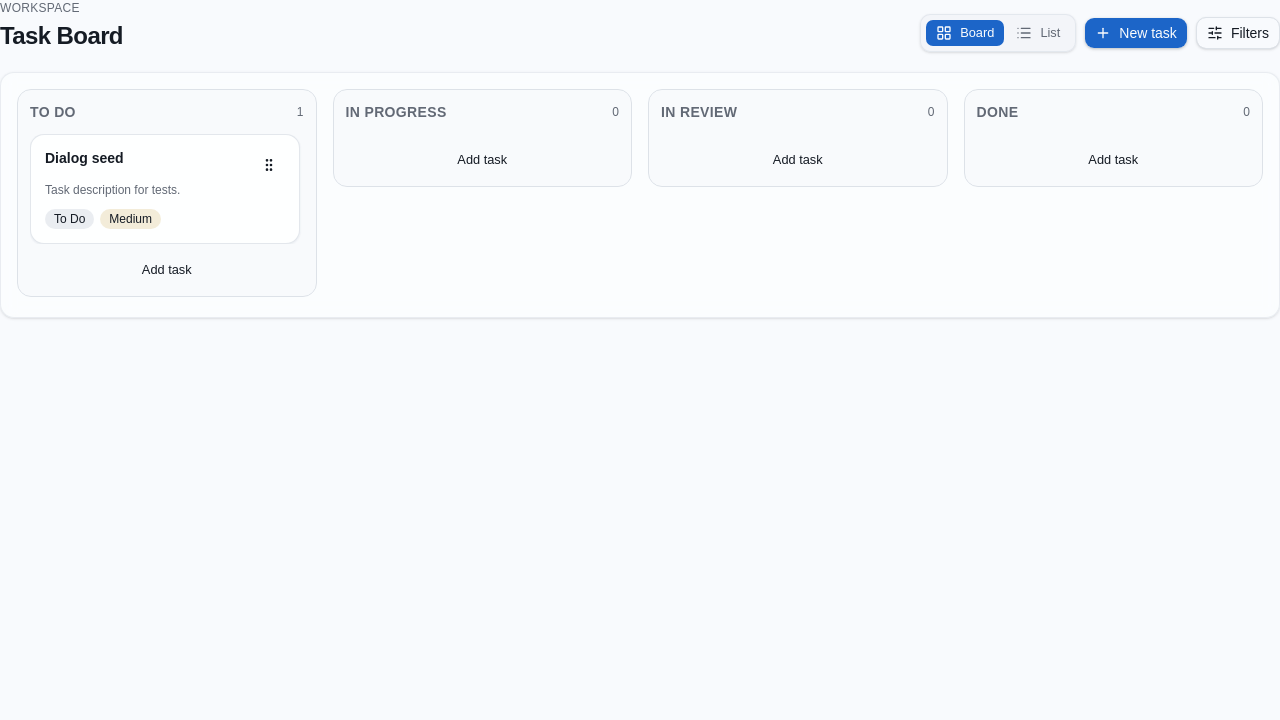
TaskViewSwitcher › loads the create dialog on demand
expect the dialog "Create task" is not shown: met
Click the button "New task".
click(1136, 33)  # box 1084,17 -> 1188,49
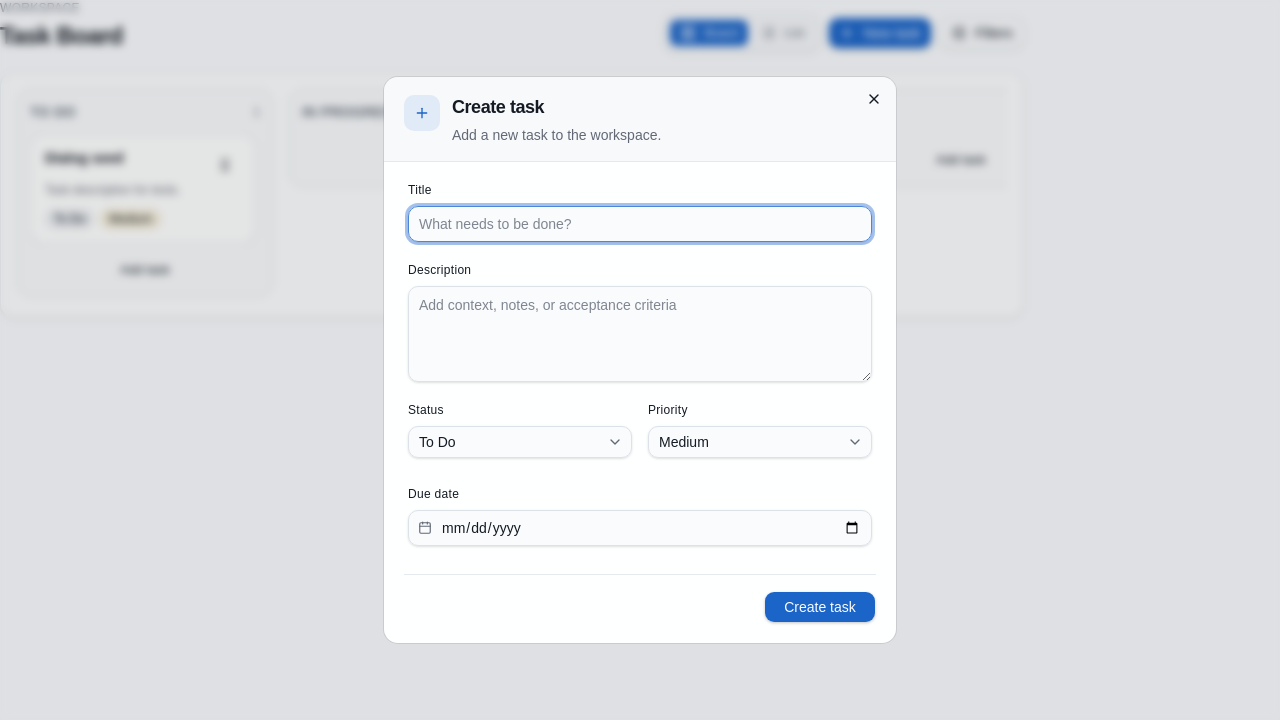
expect the dialog "Create task" is shown: met, box 384,77 -> 896,643
